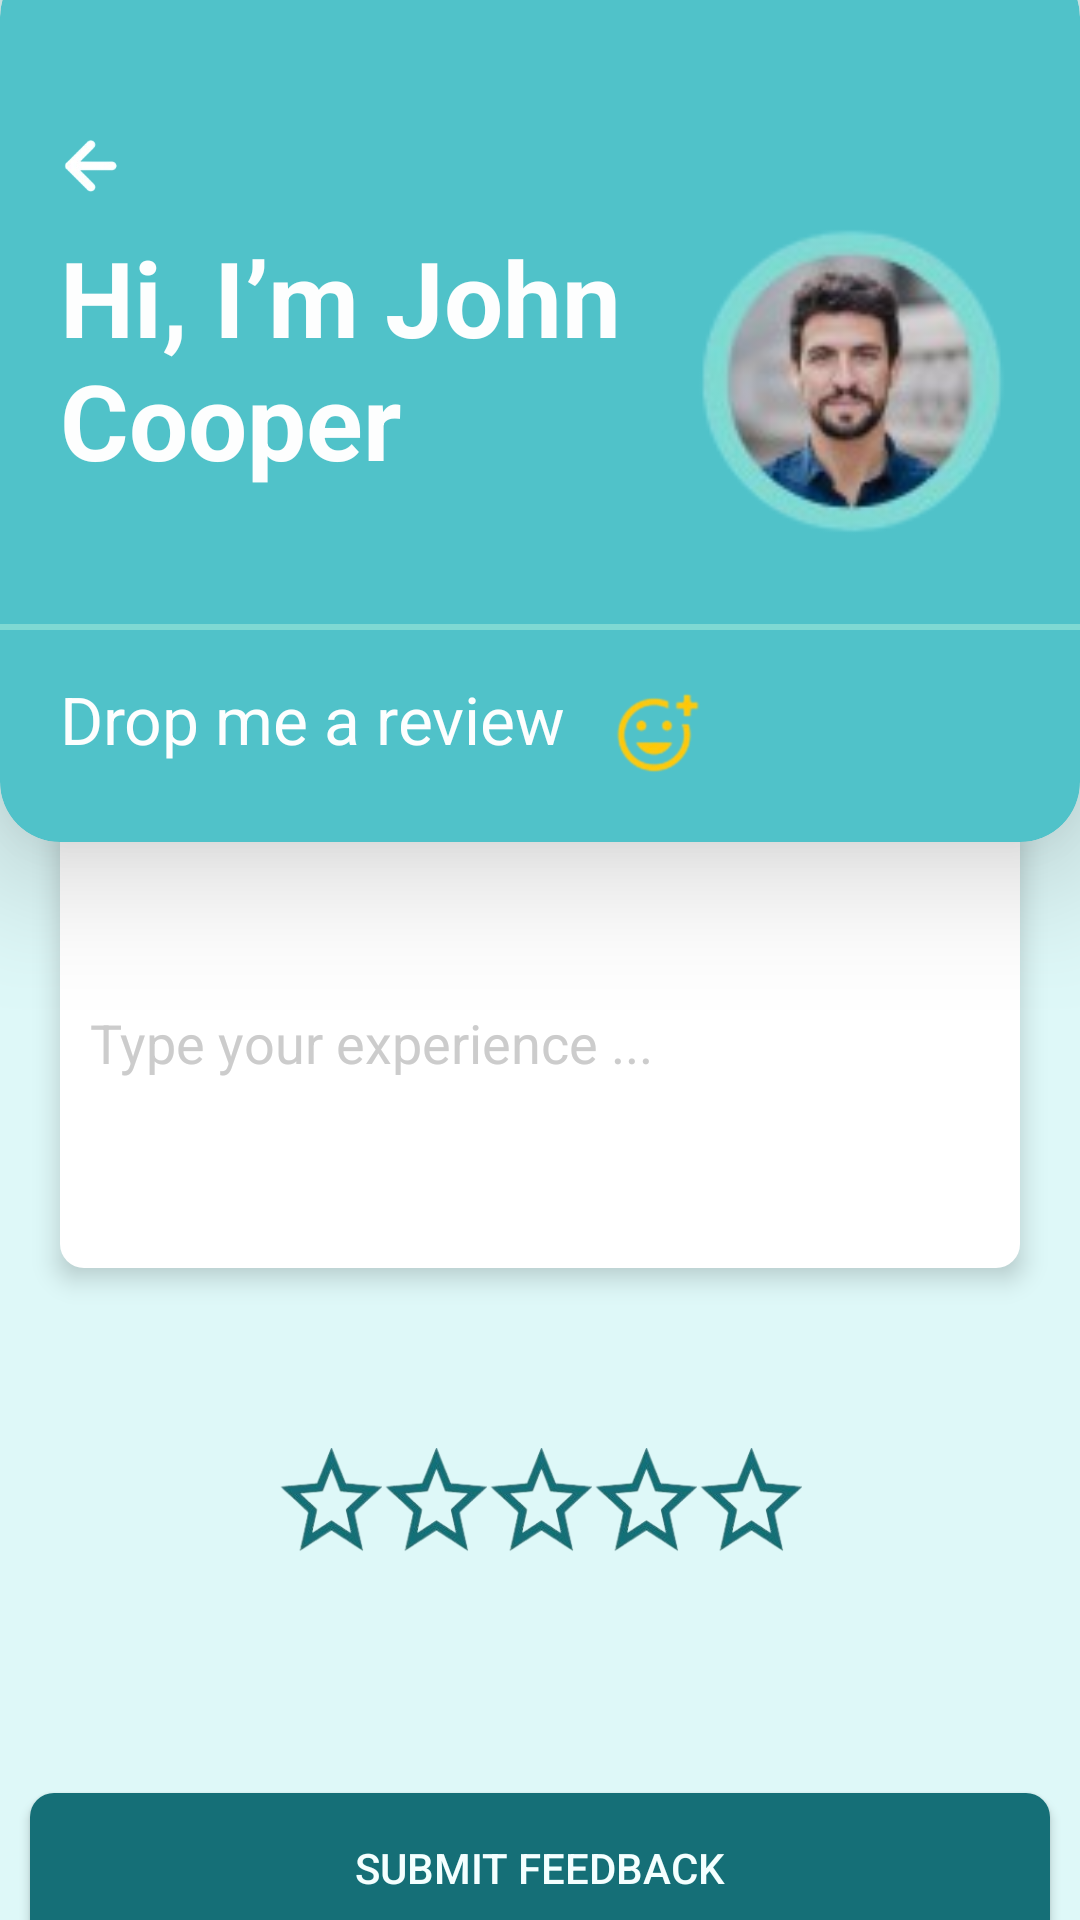

Point at icon controls on the screen. Image size 1080px×1920px, points as (x=x, y=y).
back arrow: (x=91, y=166)
person: (x=851, y=381)
review smiley: (x=658, y=733)
review star: (x=331, y=1499), (x=436, y=1499), (x=541, y=1499), (x=646, y=1499), (x=751, y=1499)
